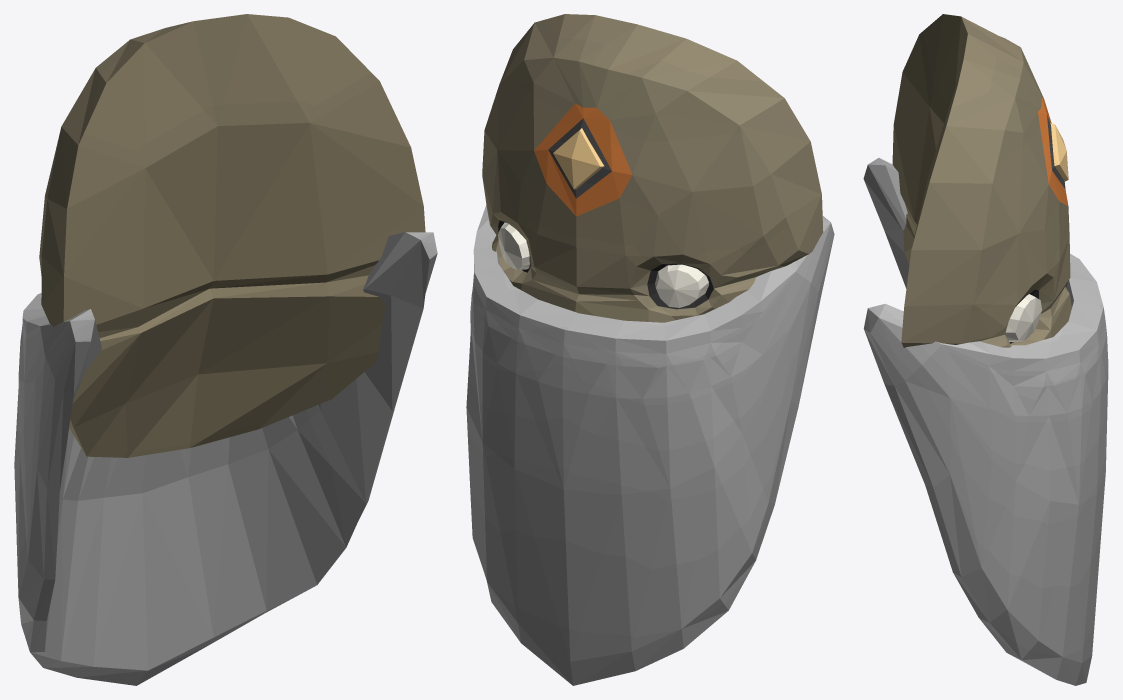
The model's file is CharSkyKid_Mask_Bandana.glb.
3 views of the same model, side by side, from view 1: azimuth 30°, elevation 25°; view 2: azimuth 150°, elevation 25°; view 3: azimuth 270°, elevation 25° (orthographic). The views are drawn at different scales.
Visible parts, largest first — view 1: CharSkyKid_Mask_Bandana; view 2: CharSkyKid_Mask_Bandana; view 3: CharSkyKid_Mask_Bandana.
Part boxes in pixels (box(x1,y1,x2,y2)): CharSkyKid_Mask_Bandana: box(14, 14, 437, 685); CharSkyKid_Mask_Bandana: box(466, 14, 834, 685); CharSkyKid_Mask_Bandana: box(863, 14, 1108, 685).
Size of the model in its own units: 2.17 by 4.01 by 1.38.
1 material, 1 textured.
